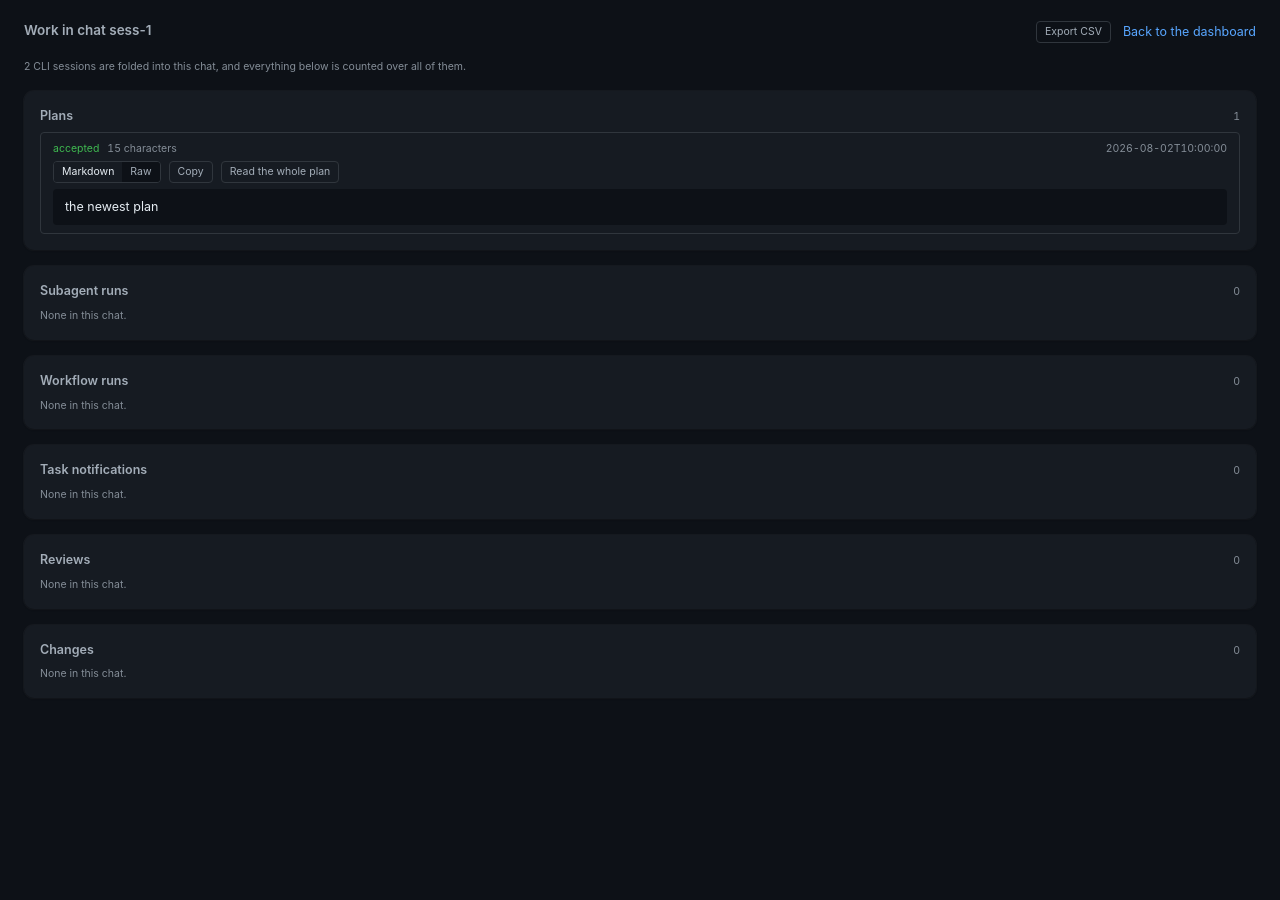
it: a plan is a document, not its opening › keeps the opening and says so when the fetch fails
Click the button "Read the whole plan" at (280, 172), box [221,161,339,183]
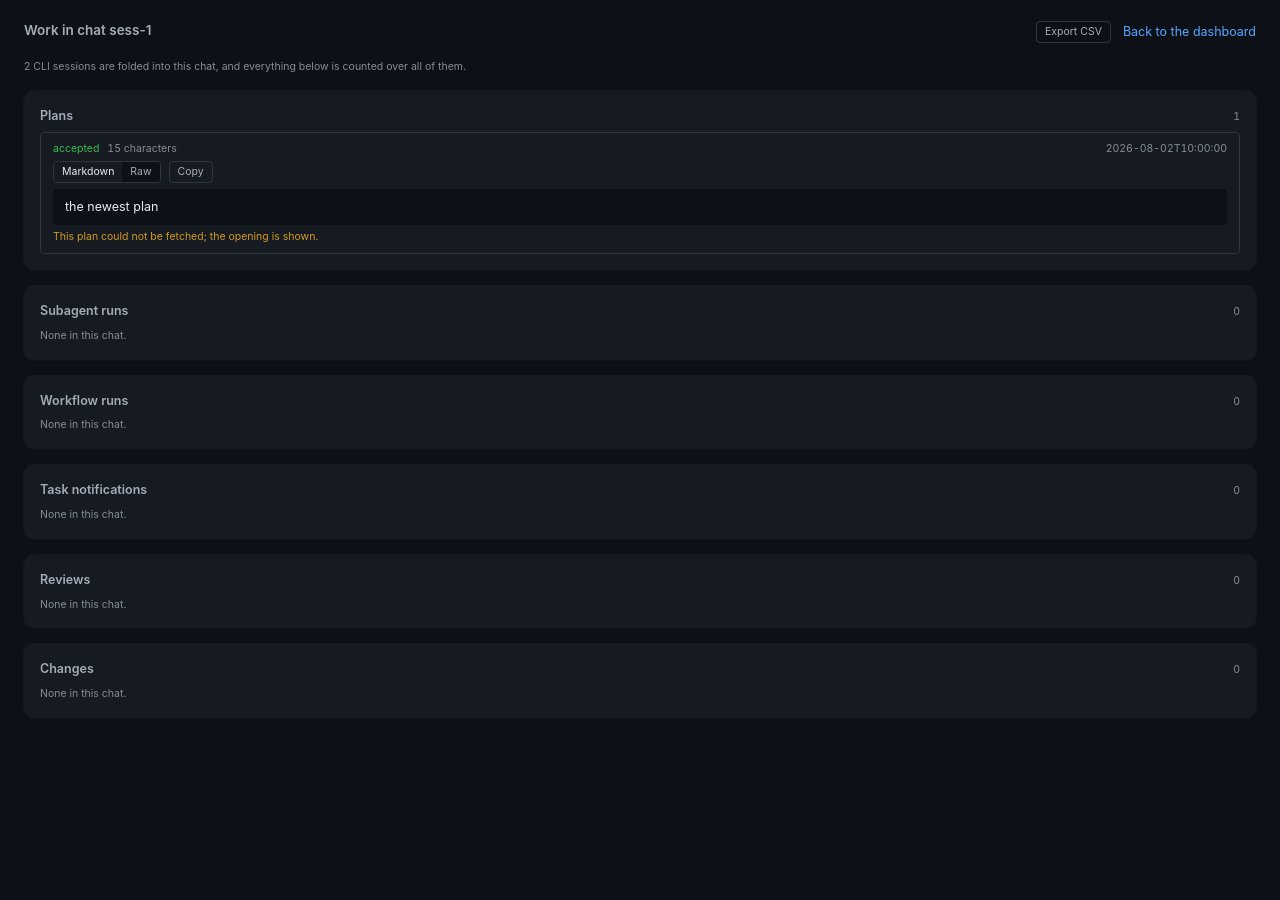
Check: the text "the newest plan" is shown, box [65,199,158,214]
Check: the message shows "the opening is shown", box [53,230,318,243]
